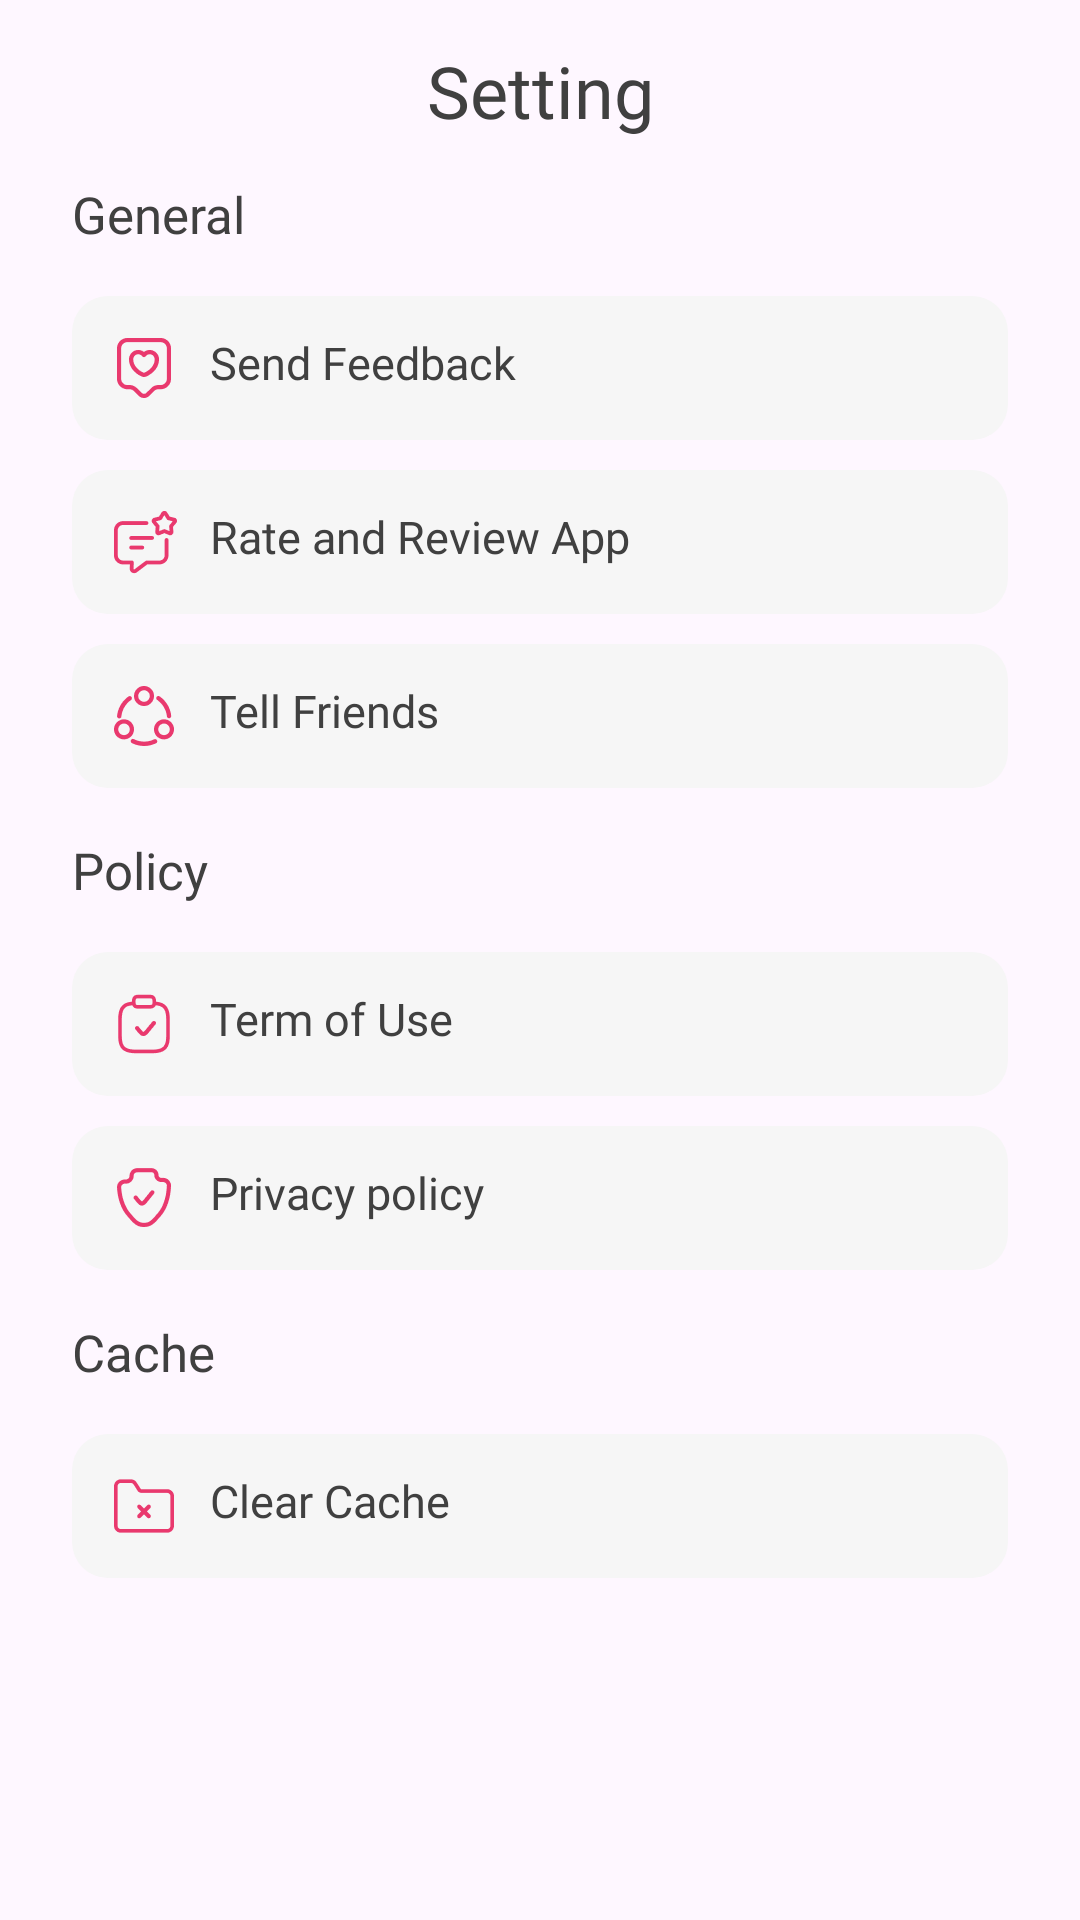

Named icons in this screenshot (1080 x 1920) and their centers, (x,y):
share app: (144,716)
